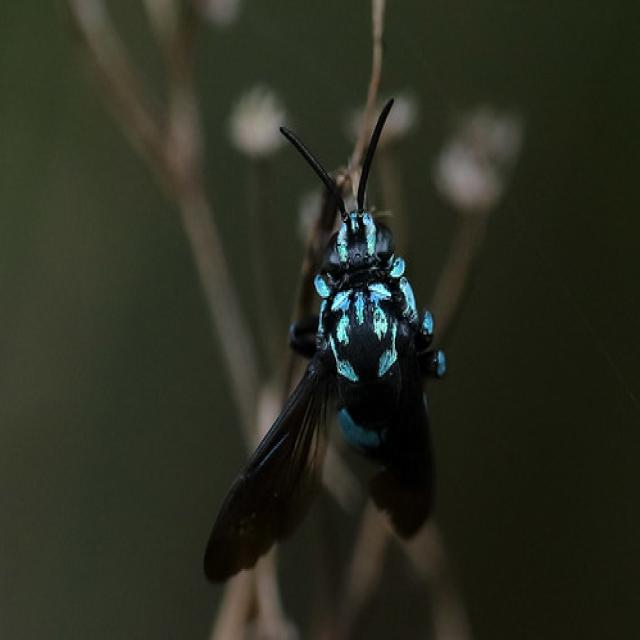Xylocopa: (203, 92, 456, 602)
